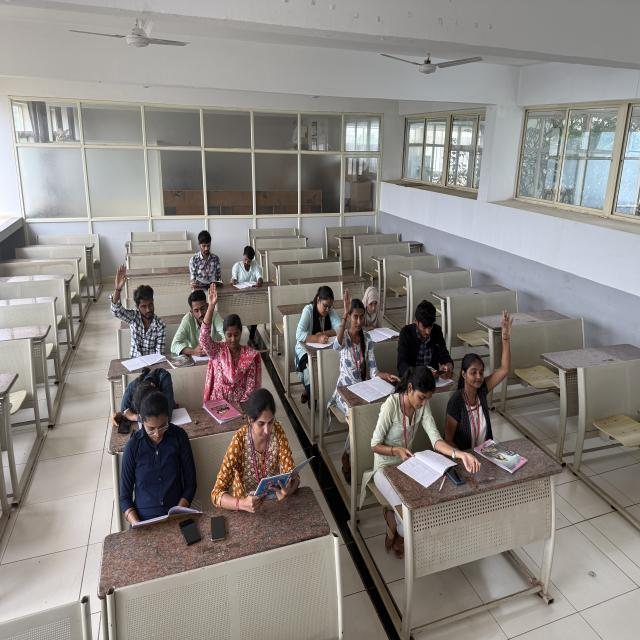Hand Rising: (448, 308, 517, 448), (197, 280, 259, 386), (102, 256, 170, 348), (334, 287, 393, 393)
Reading: (212, 383, 316, 507), (118, 393, 206, 531), (370, 361, 452, 481), (182, 227, 225, 291), (224, 236, 271, 292), (358, 274, 393, 340)
Sleeping: (109, 366, 182, 420)
Using Phone: (401, 287, 461, 378)
Writing: (296, 272, 343, 352)
